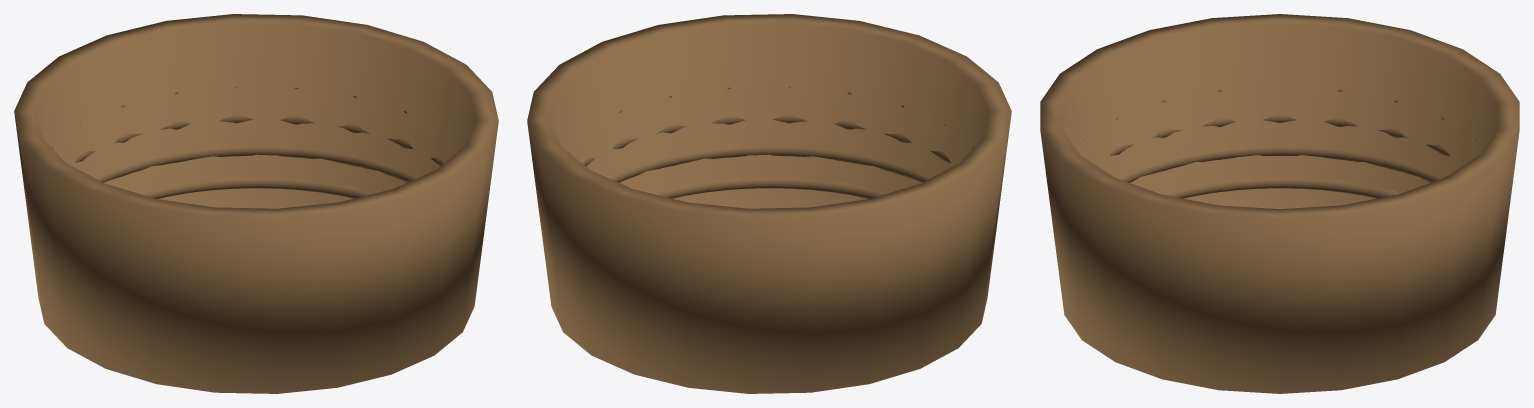
File: i_basket_2.glb
3 renders of one model, left to right at view 1: azimuth 30°, elevation 25°; view 2: azimuth 150°, elevation 25°; view 3: azimuth 270°, elevation 25°, orthographic.
Parts seen in each view (by area): view 1: o, o.002, o.001, o.003; view 2: o, o.002, o.001, o.003; view 3: o, o.002, o.001, o.003.
Boxes of the visible parts, x1,y1,x2,y2 form: o: (14, 14, 498, 393); o.002: (96, 145, 415, 182); o.001: (138, 176, 373, 198); o.003: (75, 114, 443, 166); o: (527, 14, 1011, 393); o.002: (610, 145, 929, 182); o.001: (652, 176, 887, 198); o.003: (582, 114, 950, 166); o: (1040, 14, 1519, 393); o.002: (1118, 145, 1441, 182); o.001: (1160, 176, 1399, 198); o.003: (1110, 114, 1449, 155).
Bounding box in the file's own units: 0.26 × 0.11 × 0.2574.
